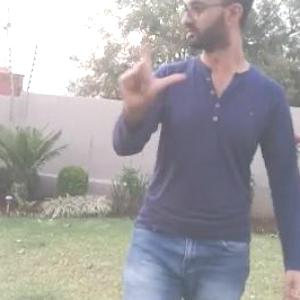land_hand: (113, 28, 185, 113)
